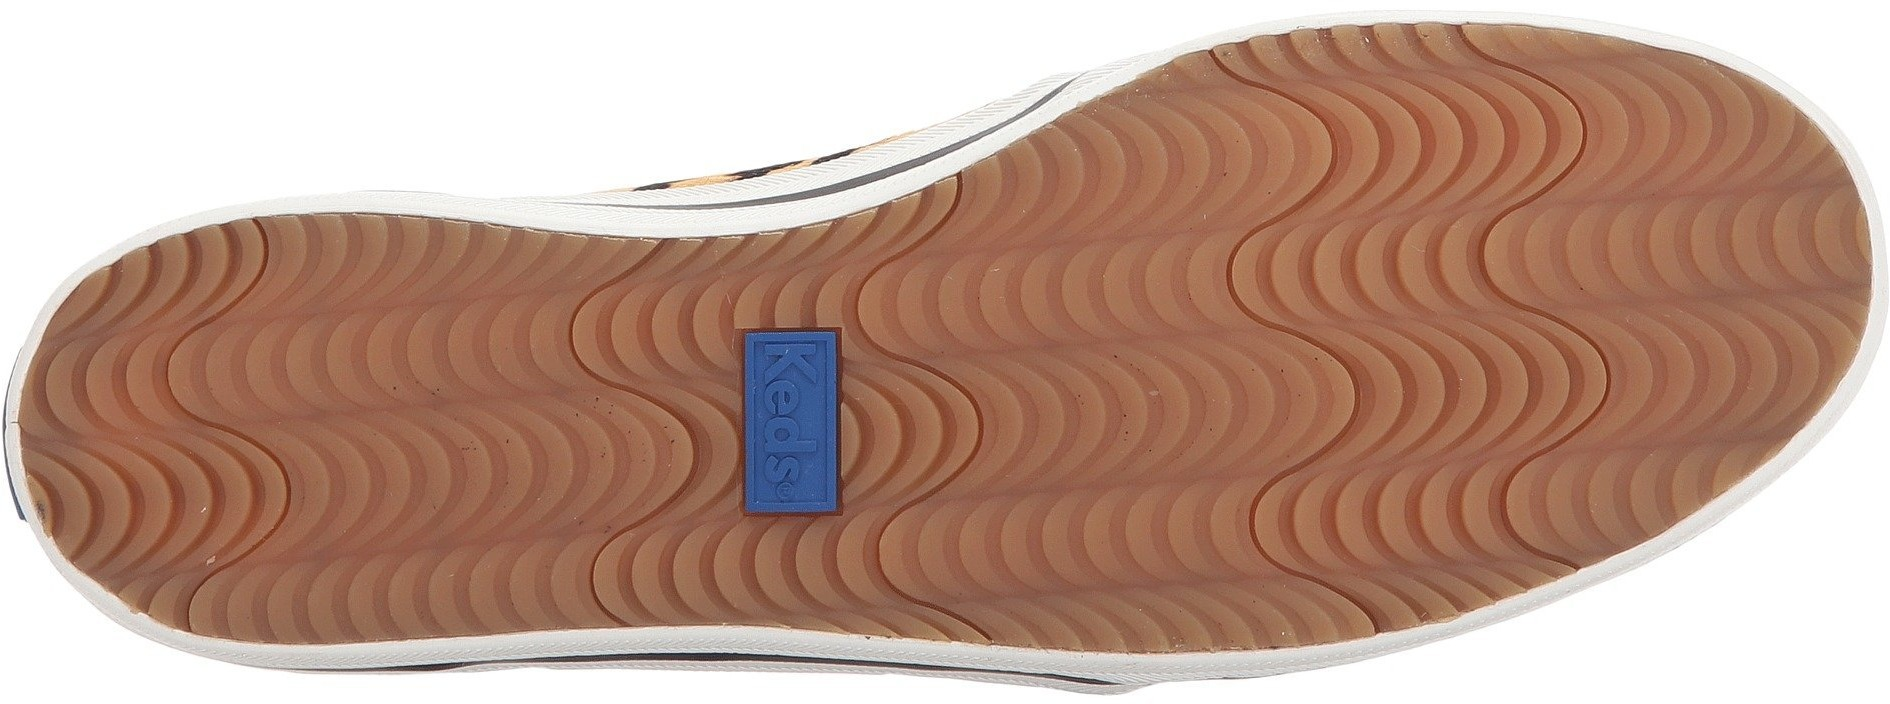chevron: (884, 175, 1357, 640), (112, 219, 476, 614), (1327, 63, 1671, 440), (1182, 61, 1417, 278), (472, 327, 698, 530), (1657, 178, 1850, 371), (1351, 426, 1536, 596)
exclude: (442, 1, 1169, 206), (268, 652, 1370, 702)
quad: (697, 319, 887, 520)
text: (749, 341, 828, 416), (749, 417, 827, 483)
